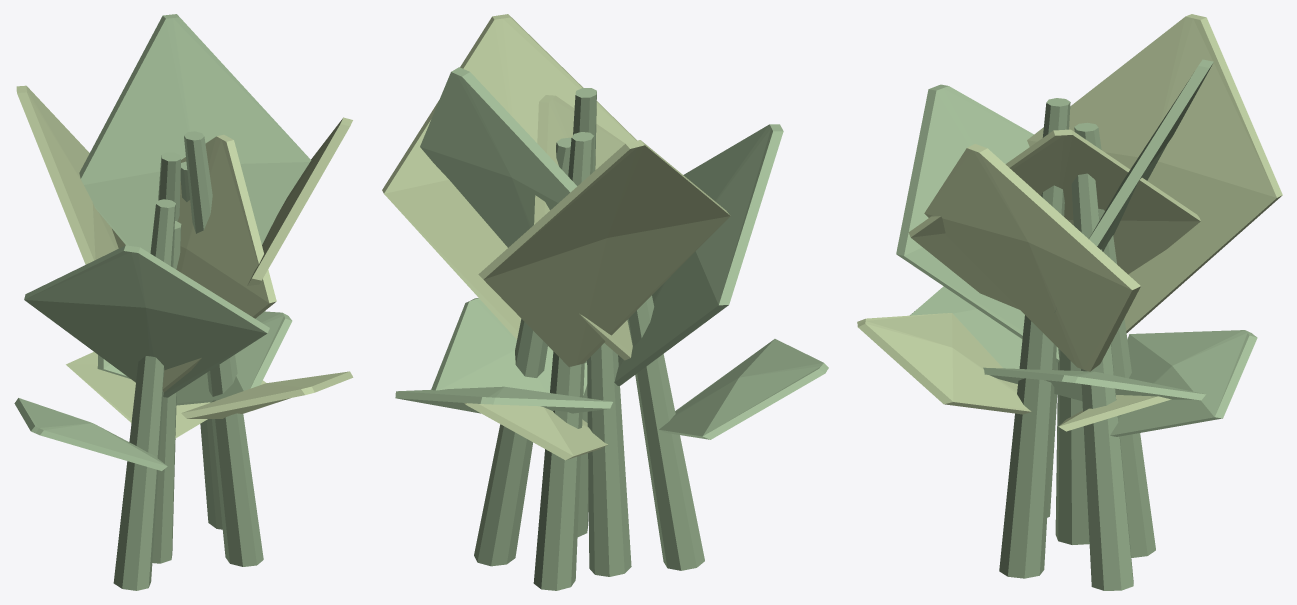
The model's file is P12_solid_repair_candidate.glb.
3 views of the same model, side by side, from view 1: azimuth 30°, elevation 25°; view 2: azimuth 150°, elevation 25°; view 3: azimuth 270°, elevation 25° (orthographic). The views are drawn at different scales.
Parts seen in each view (by area): view 1: P12_BroadLeaf_2, P12_BroadLeaf_4, P12_BroadLeaf_1, P12_Stem_1, P12_Stem_2, P12_BroadLeaf_3, P12_LowerLeaf_1, P12_LowerLeaf_3, P12_Stem_4, P12_BroadLeaf_5, P12_LowerLeaf_2, P12_LowerLeaf_4 (+2 smaller); view 2: P12_BroadLeaf_3, P12_BroadLeaf_5, P12_BroadLeaf_2, P12_BroadLeaf_4, P12_Stem_1, P12_Stem_3, P12_Stem_4, P12_LowerLeaf_1, P12_Stem_5, P12_LowerLeaf_3, P12_LowerLeaf_4, P12_BroadLeaf_1 (+2 smaller); view 3: P12_BroadLeaf_3, P12_BroadLeaf_5, P12_BroadLeaf_1, P12_BroadLeaf_4, P12_Stem_2, P12_LowerLeaf_5, P12_Stem_5, P12_LowerLeaf_2, P12_Stem_3, P12_Stem_4, P12_BroadLeaf_2, P12_LowerLeaf_3 (+2 smaller).
Part boxes in pixels (x1,y1,x2,y2): P12_BroadLeaf_2: (79,14,311,253); P12_BroadLeaf_4: (24,245,269,397); P12_BroadLeaf_1: (112,134,276,392); P12_Stem_1: (113,199,175,590); P12_Stem_2: (184,131,263,566); P12_BroadLeaf_3: (16,85,118,264); P12_LowerLeaf_1: (14,398,167,470); P12_LowerLeaf_3: (176,311,292,405); P12_Stem_4: (152,221,181,563); P12_BroadLeaf_5: (247,117,352,285); P12_LowerLeaf_2: (181,371,353,418); P12_LowerLeaf_4: (66,352,266,438); P12_BroadLeaf_3: (478,140,730,367); P12_BroadLeaf_5: (382,14,636,339); P12_BroadLeaf_2: (420,67,577,247); P12_BroadLeaf_4: (614,124,783,385); P12_Stem_1: (627,295,704,570); P12_Stem_3: (533,132,594,590); P12_Stem_4: (587,343,631,576); P12_LowerLeaf_1: (659,339,828,439); P12_Stem_5: (474,137,571,566); P12_LowerLeaf_3: (431,298,587,395); P12_LowerLeaf_4: (464,403,608,460); P12_BroadLeaf_1: (534,95,632,360); P12_BroadLeaf_3: (1027,14,1282,332); P12_BroadLeaf_5: (924,144,1140,371); P12_BroadLeaf_1: (908,129,1200,309); P12_BroadLeaf_4: (896,84,1059,362); P12_Stem_2: (999,98,1070,578); P12_LowerLeaf_5: (1110,330,1257,436); P12_Stem_5: (1071,173,1133,590); P12_LowerLeaf_2: (857,313,1031,414); P12_Stem_3: (1074,122,1155,557); P12_Stem_4: (1055,348,1089,544); P12_BroadLeaf_2: (1054,59,1213,312); P12_LowerLeaf_3: (983,367,1205,400).
Size of the model in its own units: 3 by 4 by 3.
